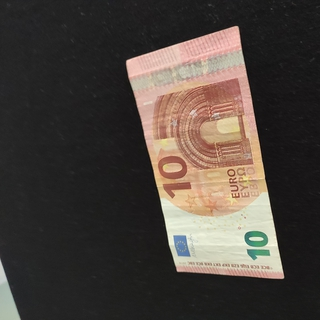10EUROFront: (125, 25, 285, 279)
